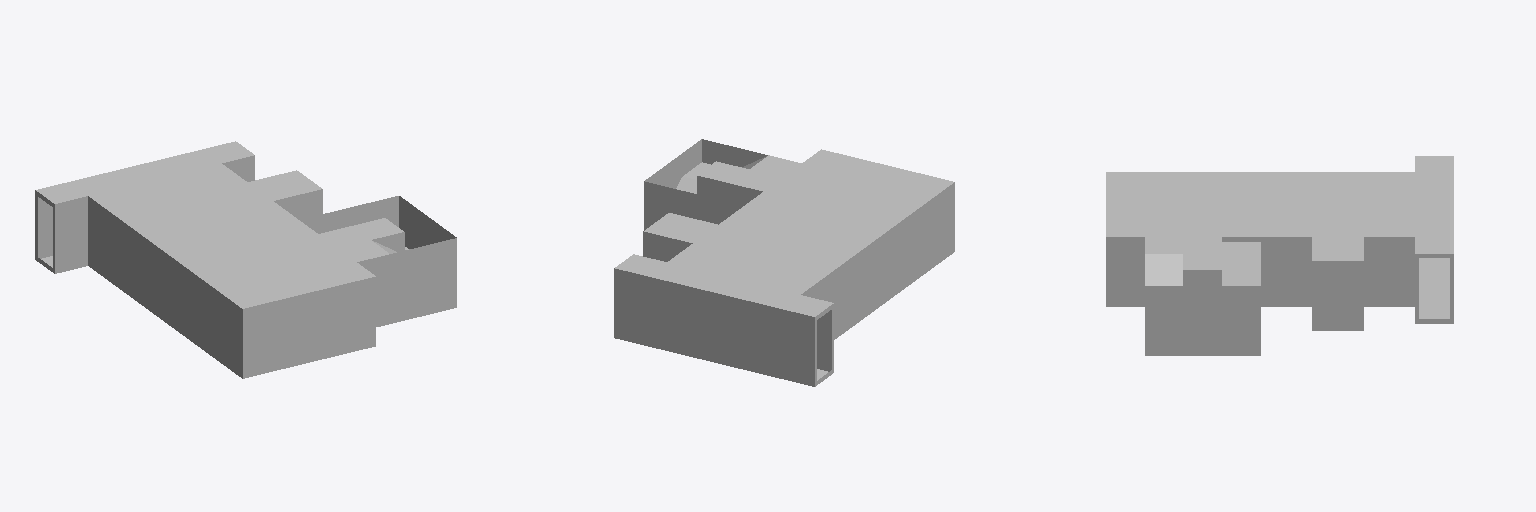
Rendered from apt.obj.
The picture shows the model from 3 angles: view 1: azimuth 30°, elevation 25°; view 2: azimuth 150°, elevation 25°; view 3: azimuth 270°, elevation 25°; orthographic projection.
Parts seen in each view (by area): view 1: Cube; view 2: Cube; view 3: Cube.
Boxes of the visible parts, x1,y1,x2,y2 form: Cube: [35, 141, 456, 378]; Cube: [614, 139, 954, 386]; Cube: [1106, 156, 1453, 355].
Size of the model in its own units: 8 by 2 by 9.